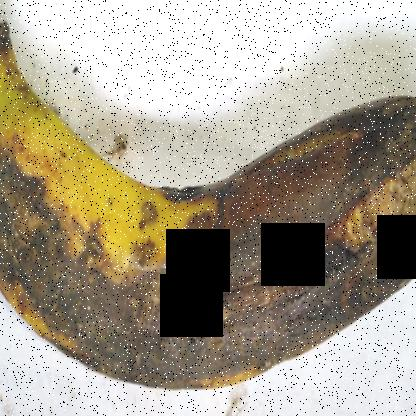rotten: (0, 30, 415, 397)
